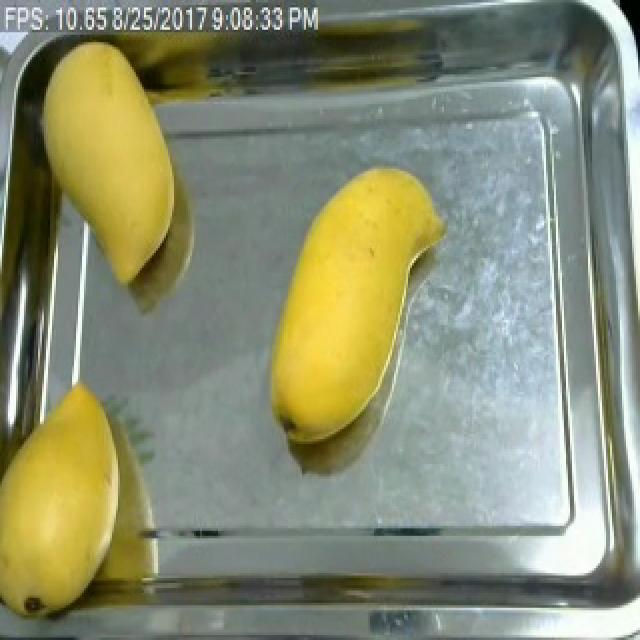fruit: (258, 149, 416, 461), (26, 32, 188, 300), (0, 374, 134, 628)
